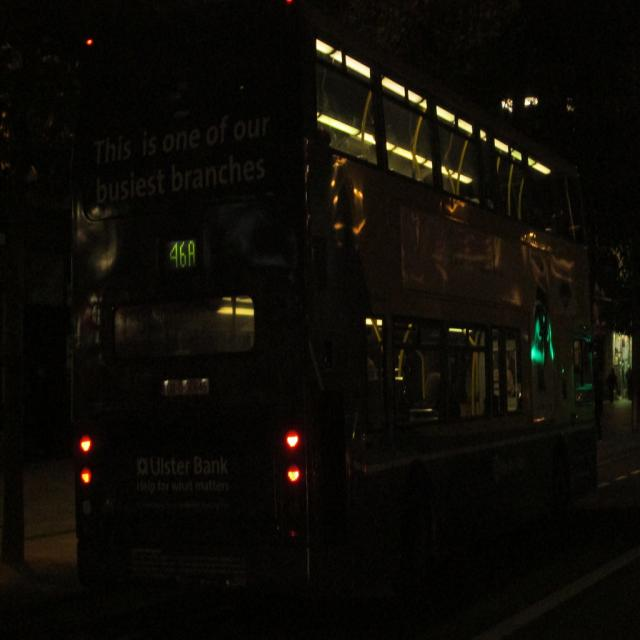Bus: (72, 6, 606, 637)
